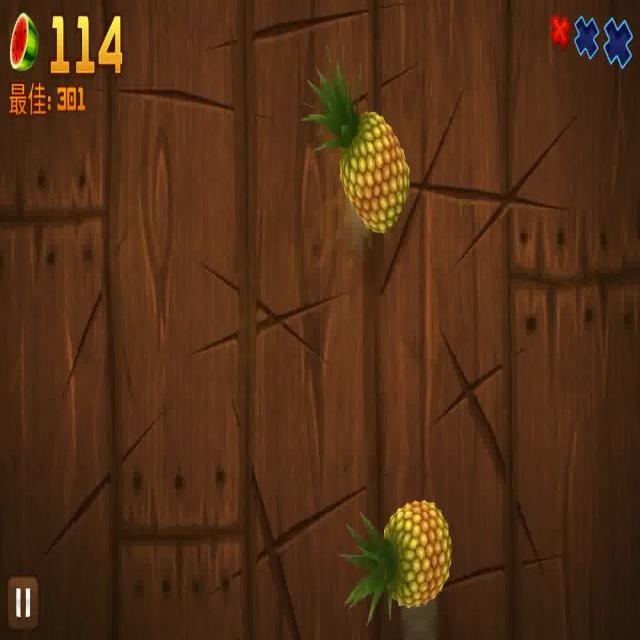fruit: (298, 42, 409, 237), (340, 503, 449, 618)
